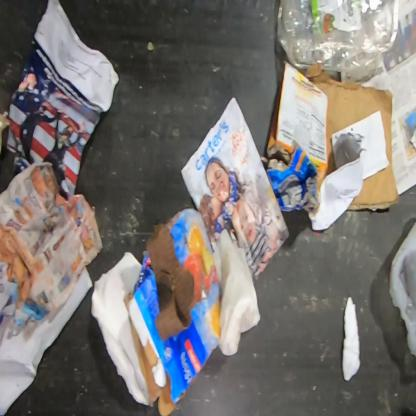cardboard: (123, 208, 223, 415), (297, 63, 399, 211), (267, 62, 330, 171), (260, 138, 325, 220)
rigid_plastic: (276, 0, 400, 82), (388, 202, 415, 386)
